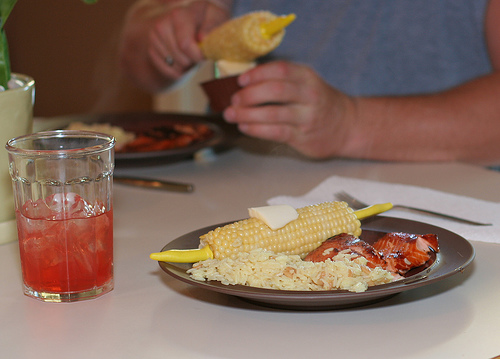corn: (147, 199, 399, 266), (195, 8, 296, 60)
